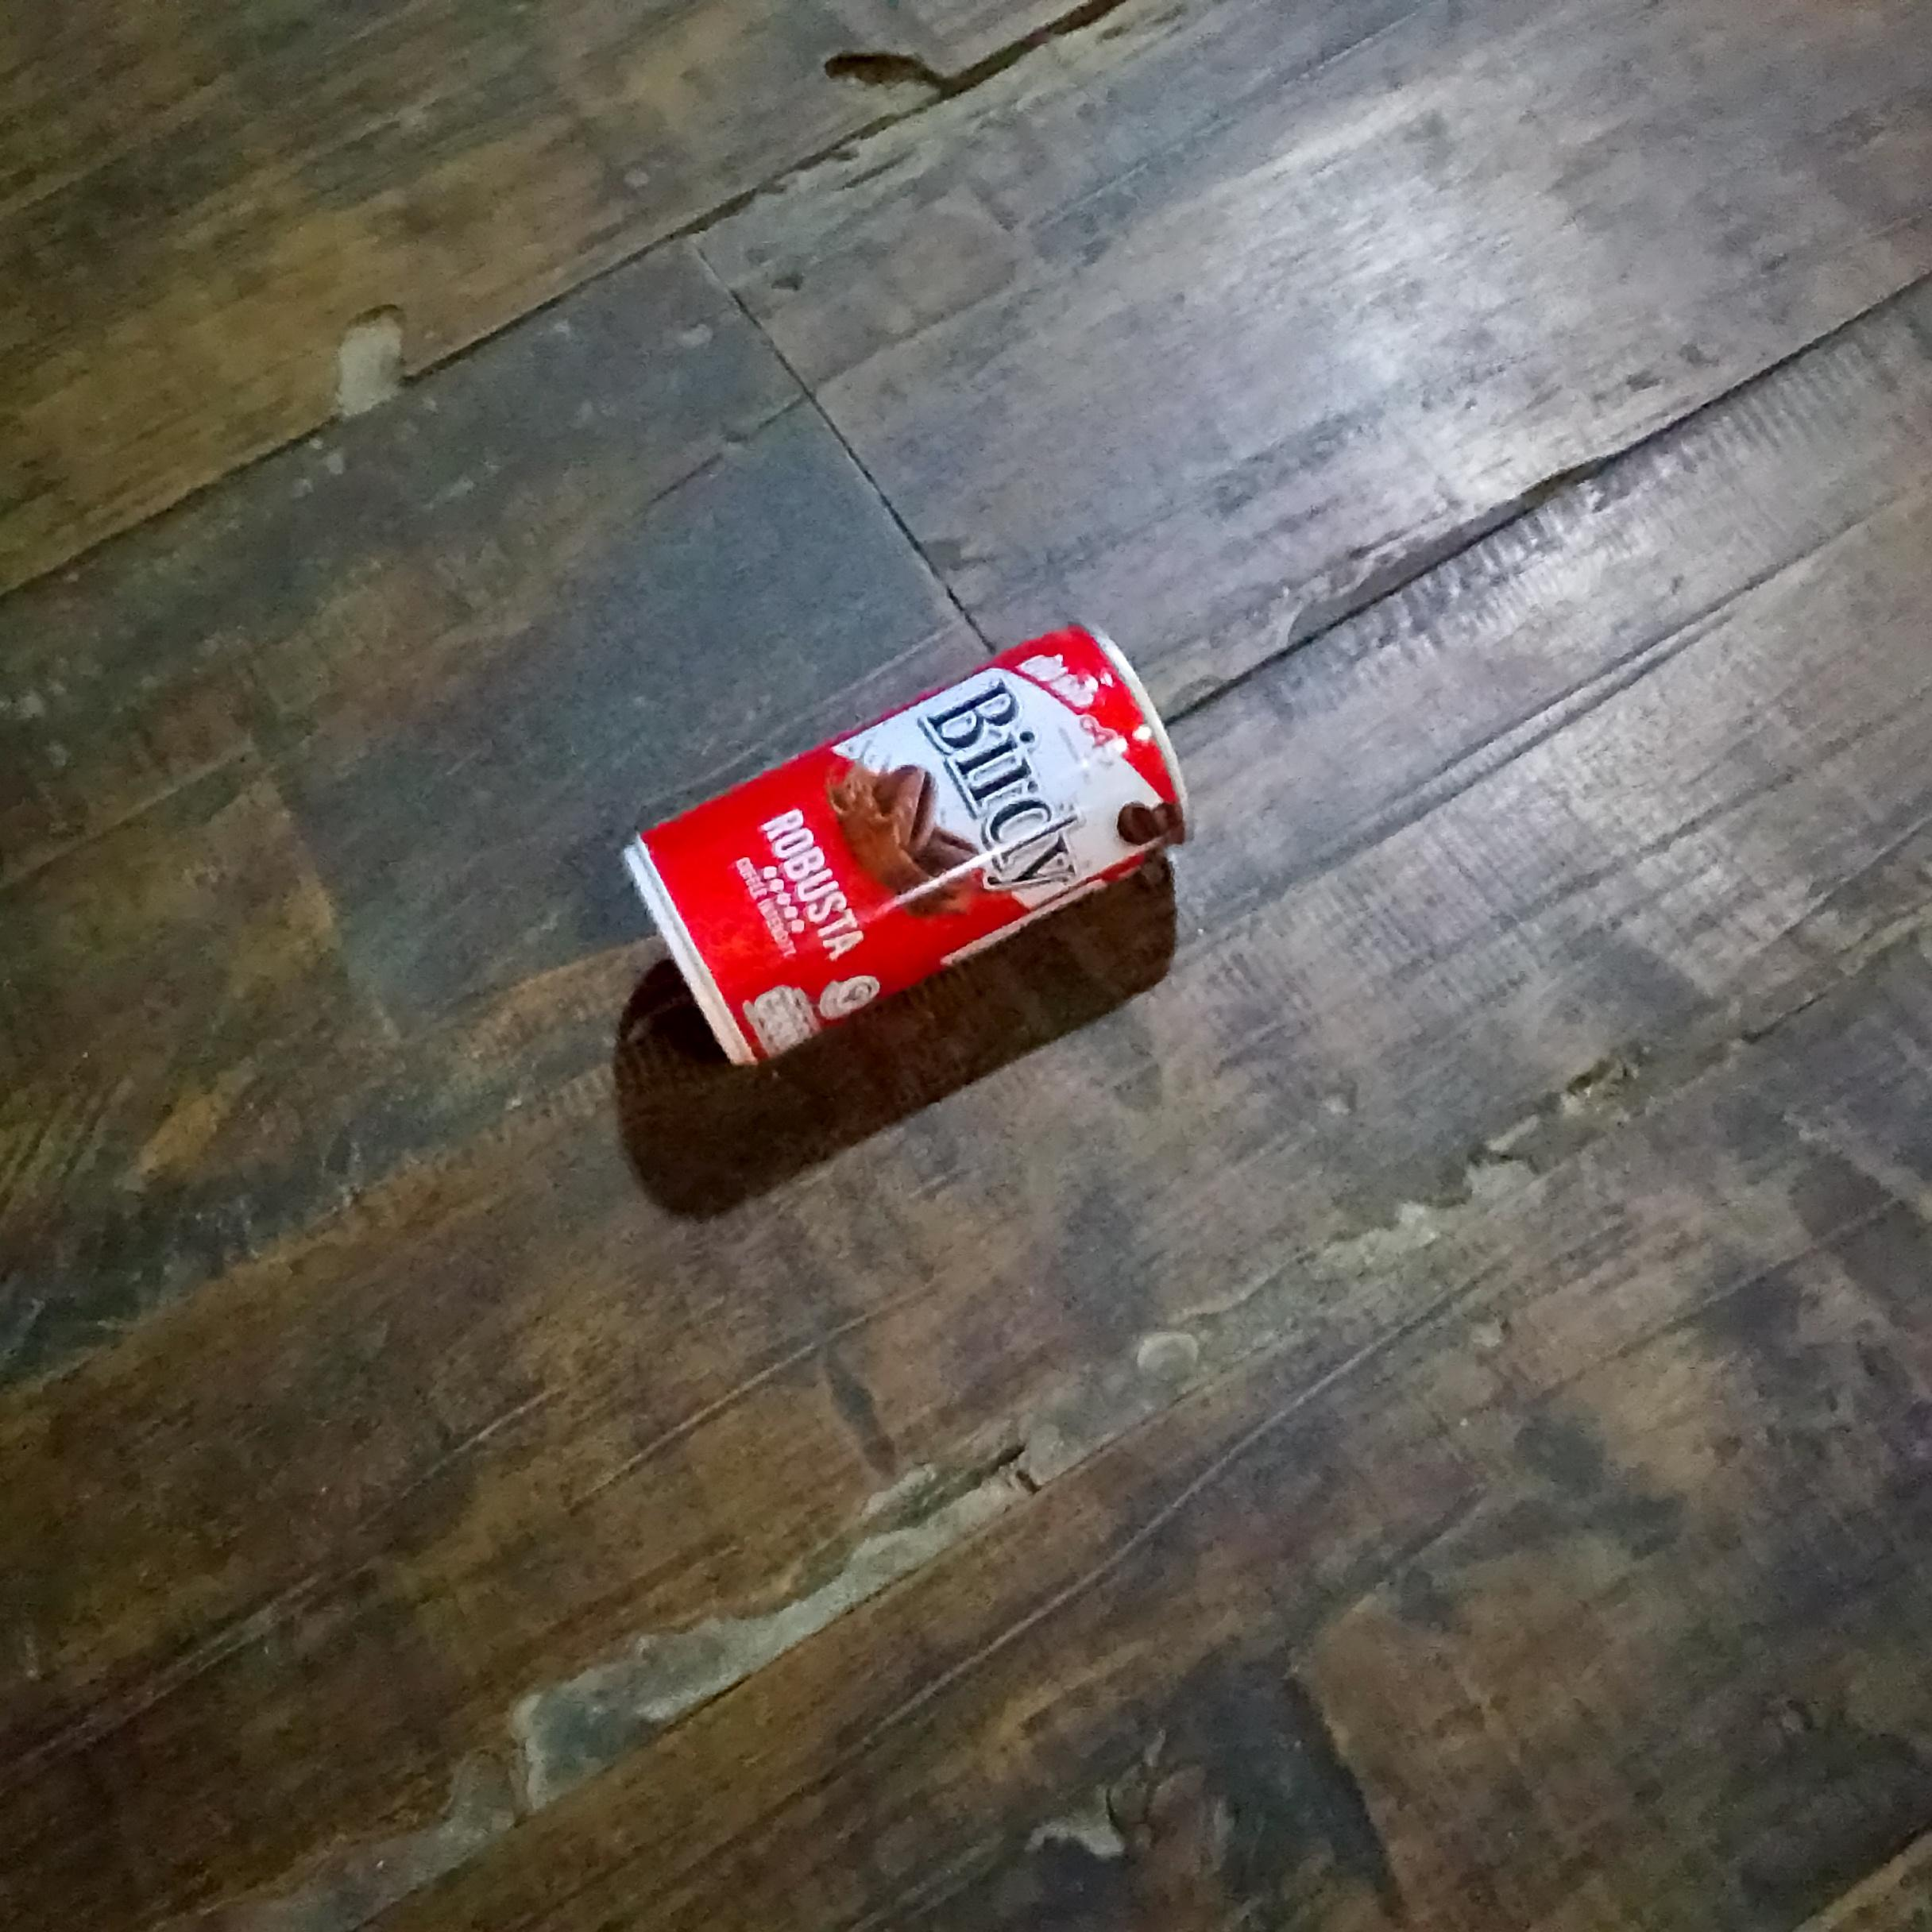can: (626, 628, 1184, 1063)
